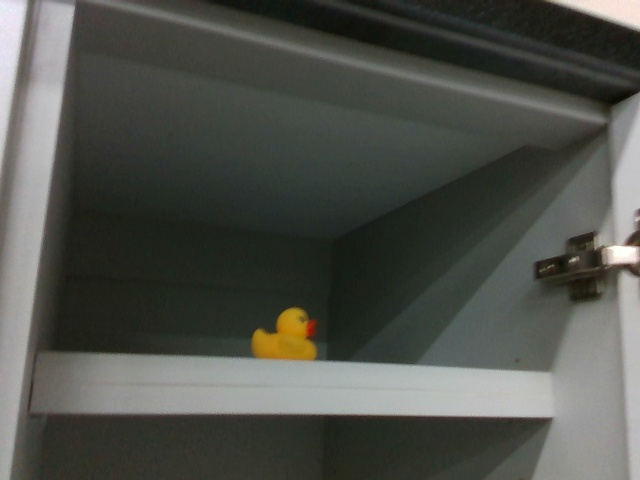duck: (247, 304, 324, 362)
